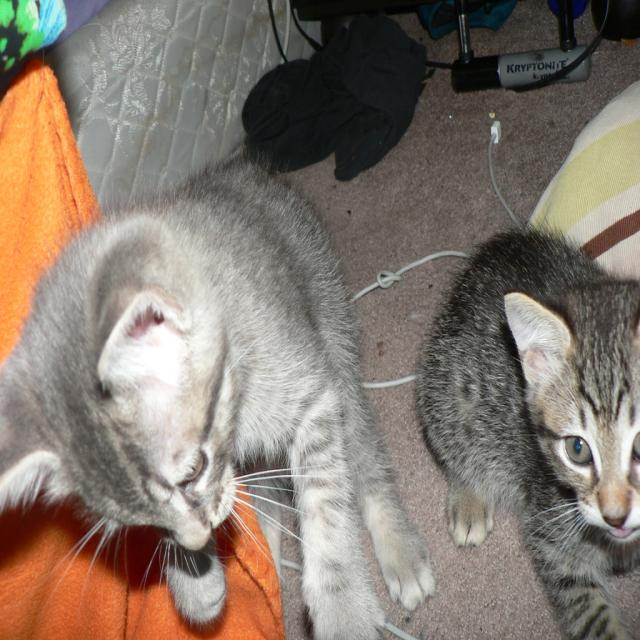Cat: (0, 147, 440, 638), (411, 222, 639, 638)
